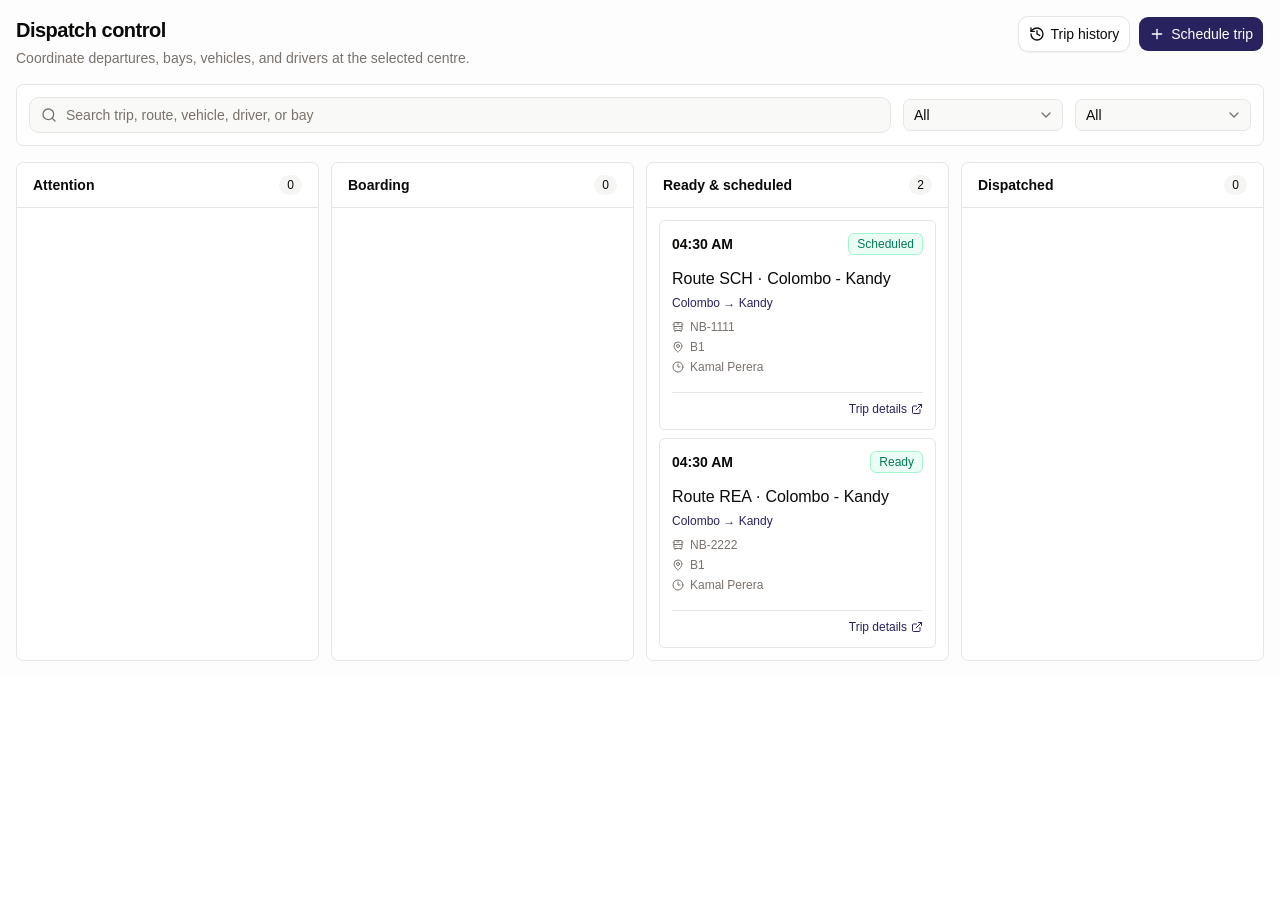
Test: DispatchPage (dispatch board) › narrows the board when searching by vehicle
This screenshot has width=1280, height=900.
expect the text "NB-1111" is shown: met, box [672,320,735,334]
In the field with placeholder "Search trip, route, vehicle, driver, or bay": (460, 115) [29,97,891,133], type "2222"
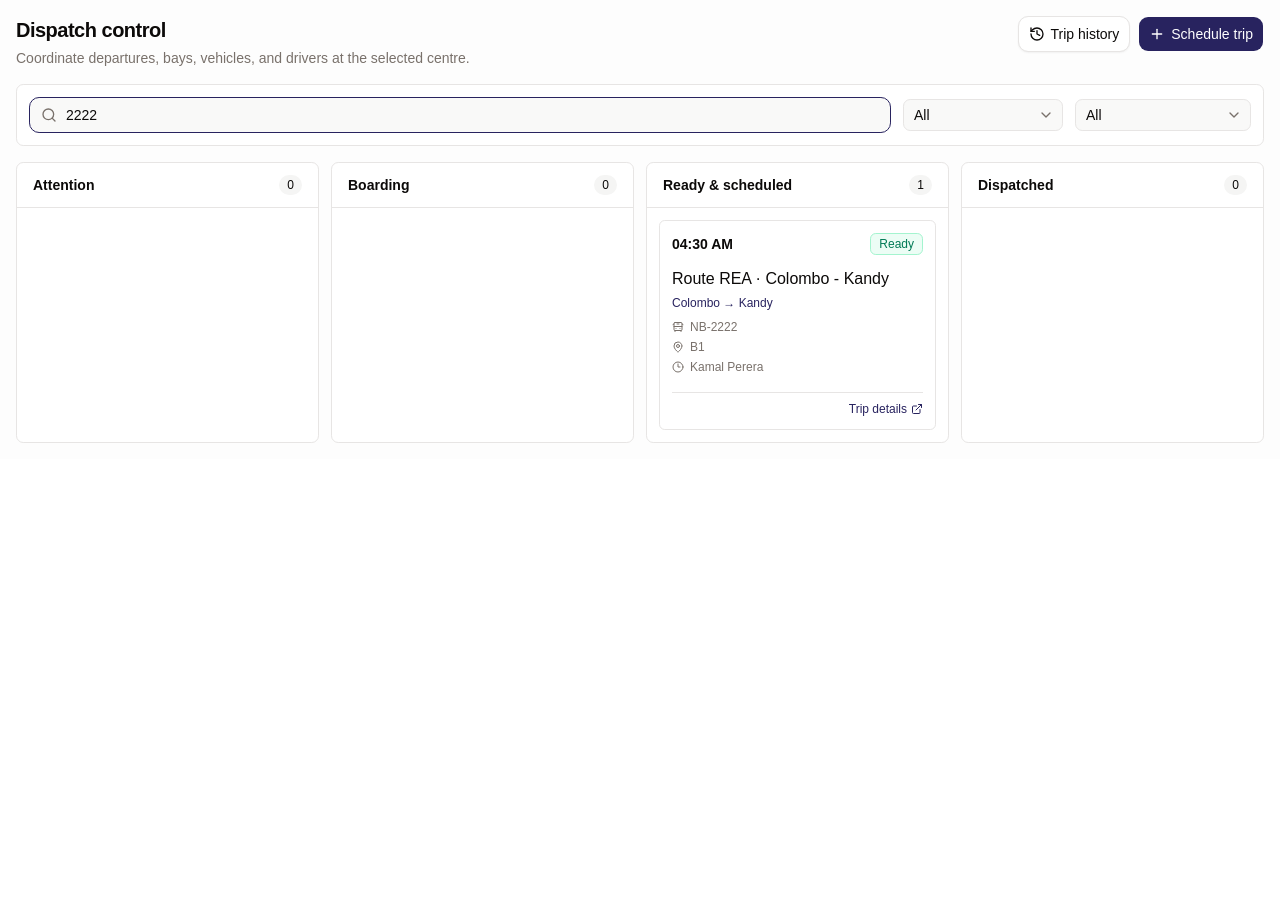
expect the text "NB-2222" is shown: met, box [672,320,737,334]
expect the button "NB-1111" is gone: met
